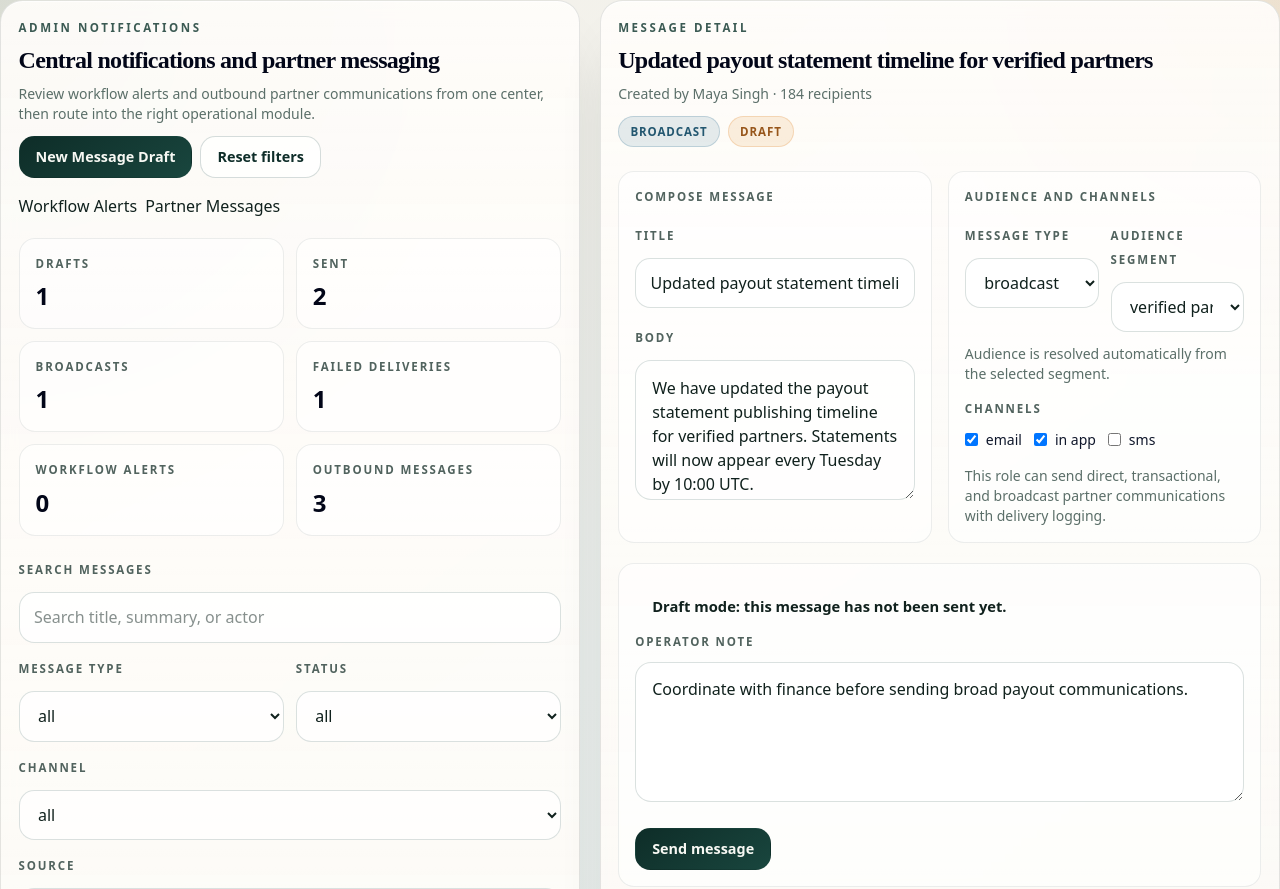
Test case: NotificationsWorkspace › sends a partner-facing message and shows delivery metadata
This screenshot has width=1280, height=889.
Replace the text in the field named "Notification title" with "Verified partner payout timeline notice" at [775, 283], box x1=635 y1=258 x2=915 y2=308
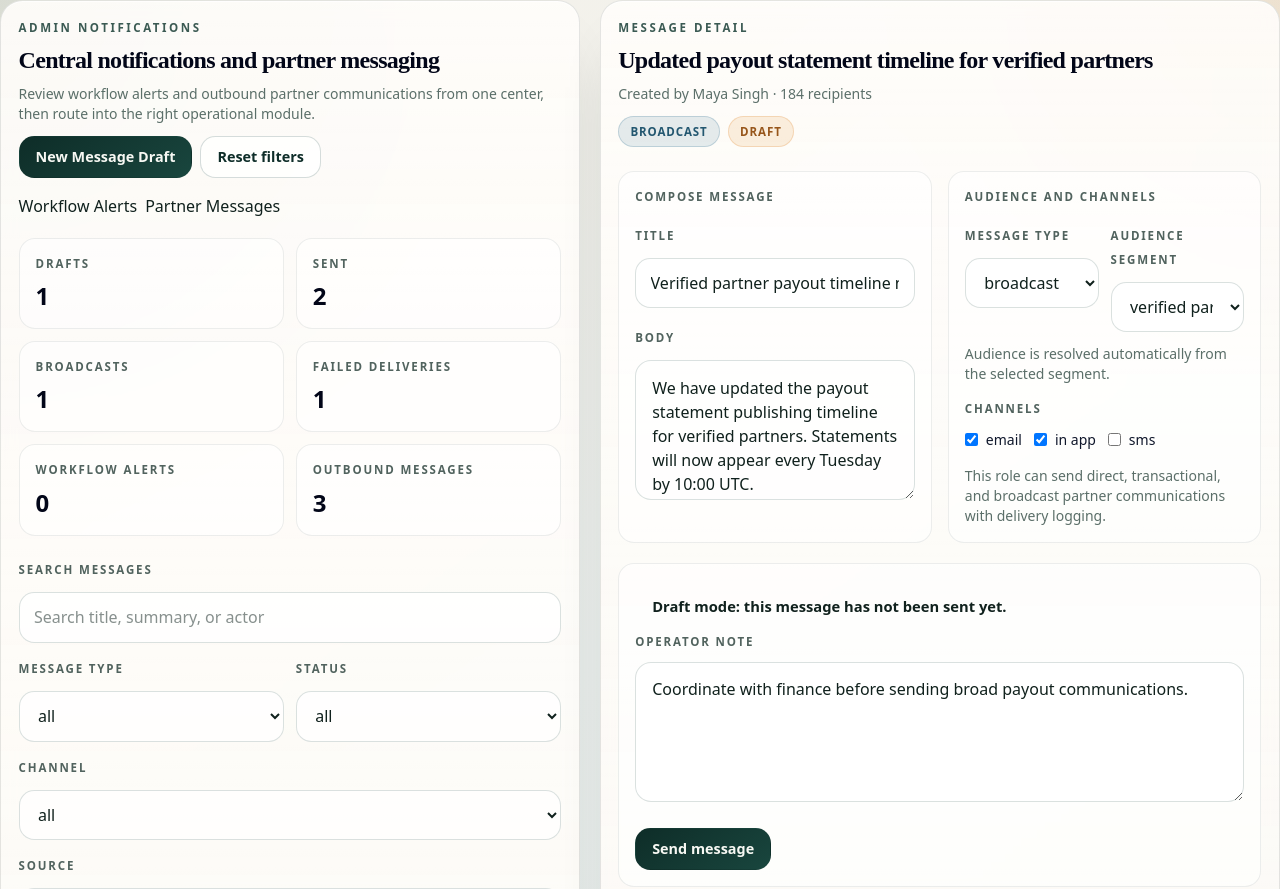
Replace the text in the text box named "Notification body" with "Statements now arrive every Tuesday by 10:00 UTC. Review your dashboard for the updated payout schedule." at [775, 430], box x1=635 y1=360 x2=915 y2=500
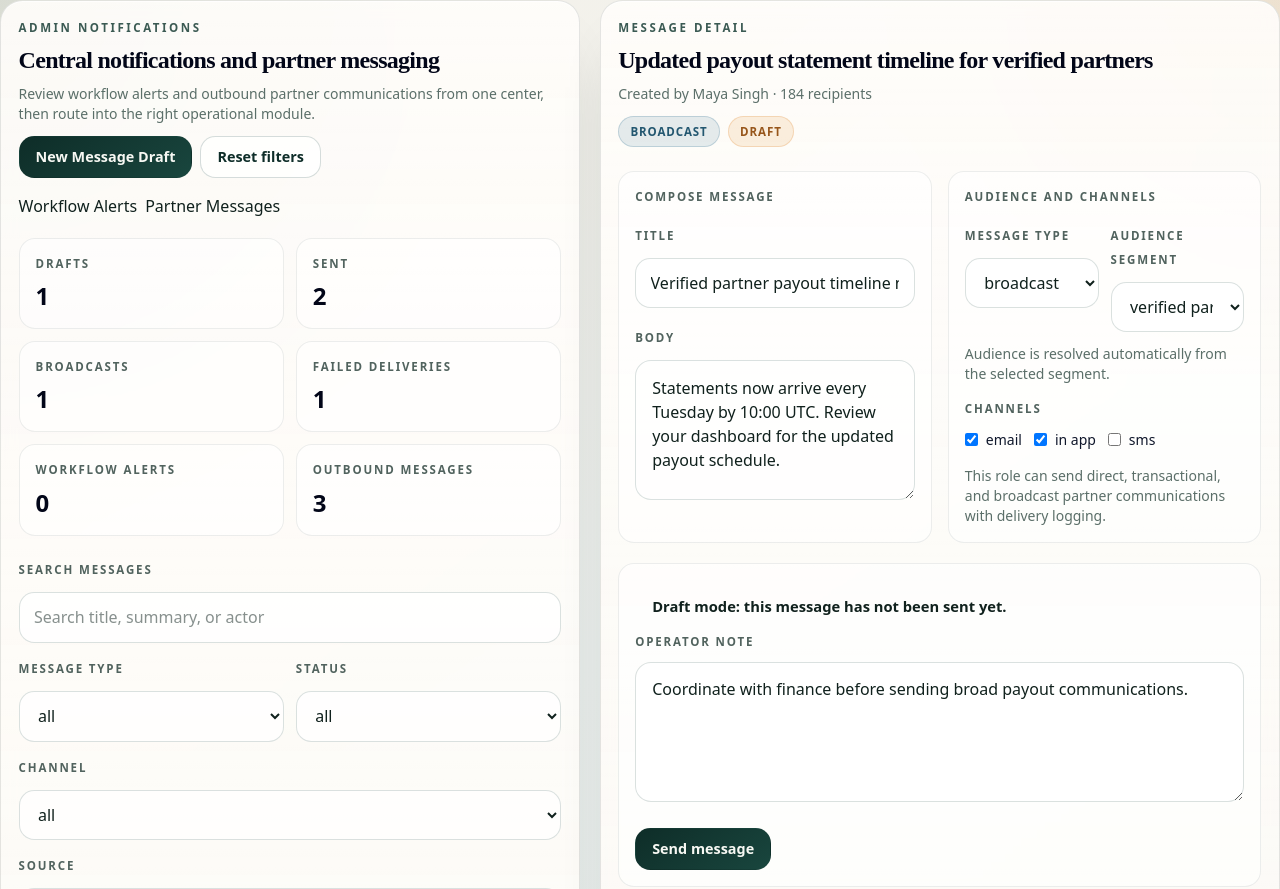
Replace the text in the text box with placeholder "Capture why this message is being sent" with "Sending after finance confirmed the revised payout timeline for verified partners." at [940, 732], box x1=635 y1=662 x2=1244 y2=802
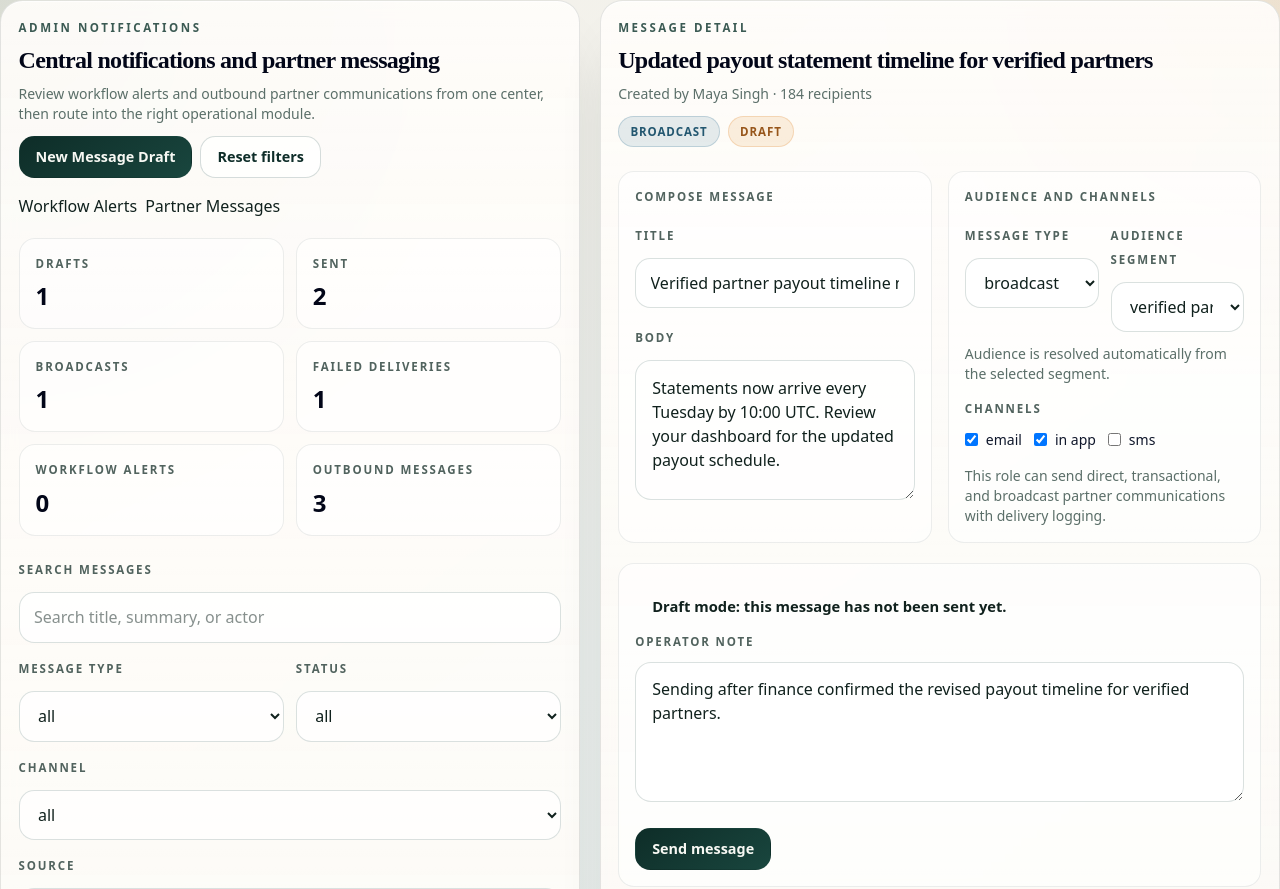
Click the button "Send message" at [703, 849], box x1=635 y1=828 x2=771 y2=870
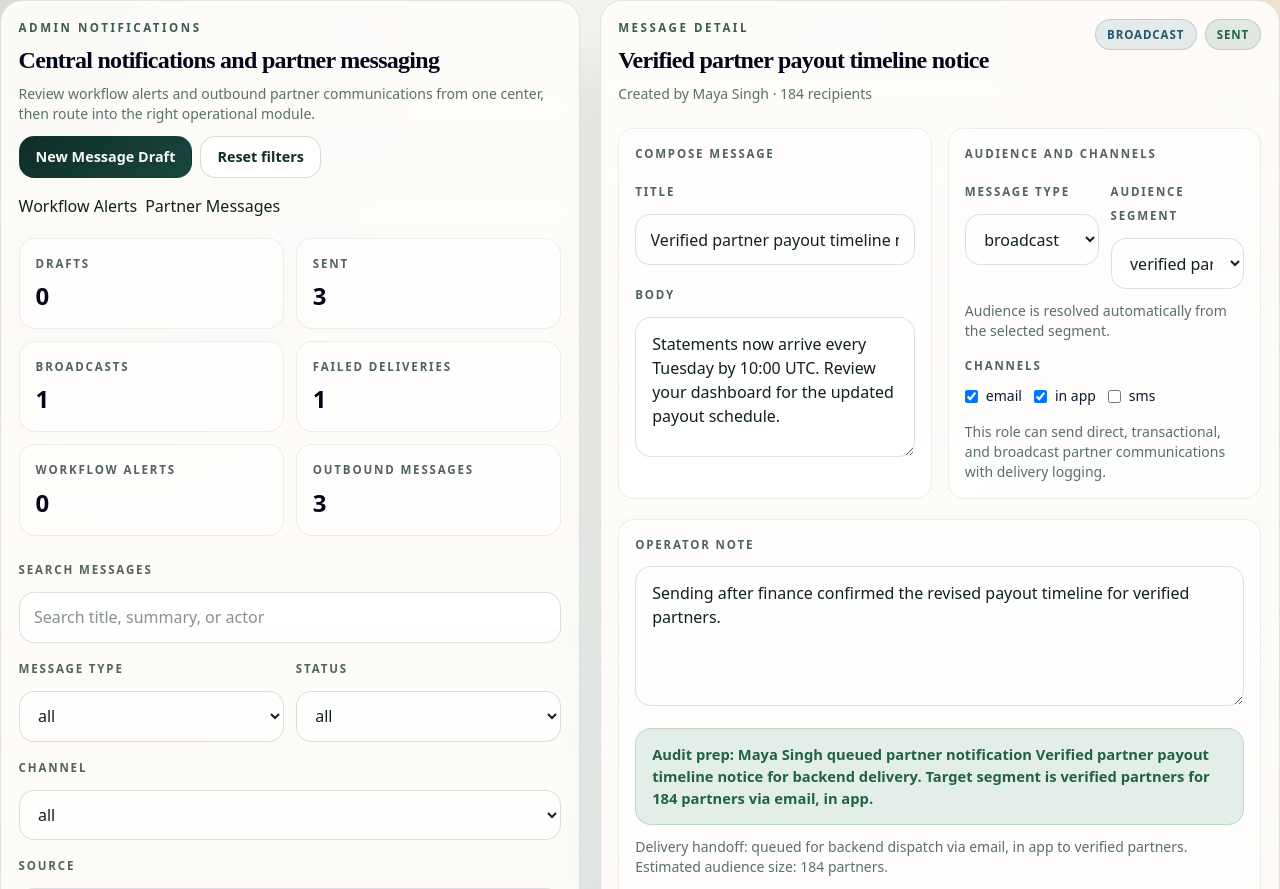
Expected: the text "queued partner notification" is shown, x1=652 y1=744 x2=1209 y2=786
Expected: the text "Delivery handoff:" is shown, x1=635 y1=837 x2=969 y2=856
Expected: the text "Estimated audience size: 184 partners." is shown, x1=635 y1=837 x2=1244 y2=877
